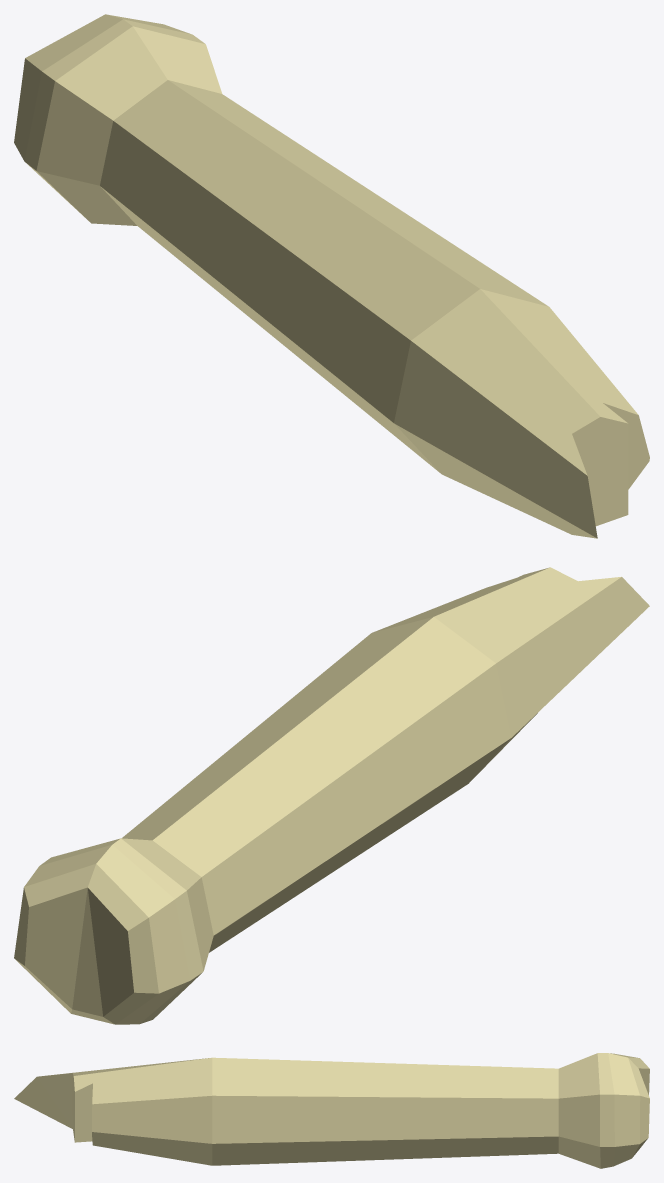
The model's file is F_Bone_B.fbx.
The picture shows the model from 3 angles, top to bottom: view 1: azimuth 30°, elevation 25°; view 2: azimuth 150°, elevation 25°; view 3: azimuth 270°, elevation 25°; orthographic projection. The views are drawn at different scales.
Visible parts, largest first — view 1: F_Bone_B; view 2: F_Bone_B; view 3: F_Bone_B.
Boxes of the visible parts, <box> form: F_Bone_B: <box>14,14,649,538</box>; F_Bone_B: <box>14,567,649,1024</box>; F_Bone_B: <box>14,1053,649,1168</box>.
Bounding box in the file's own units: 11.2 × 10.81 × 59.13.
